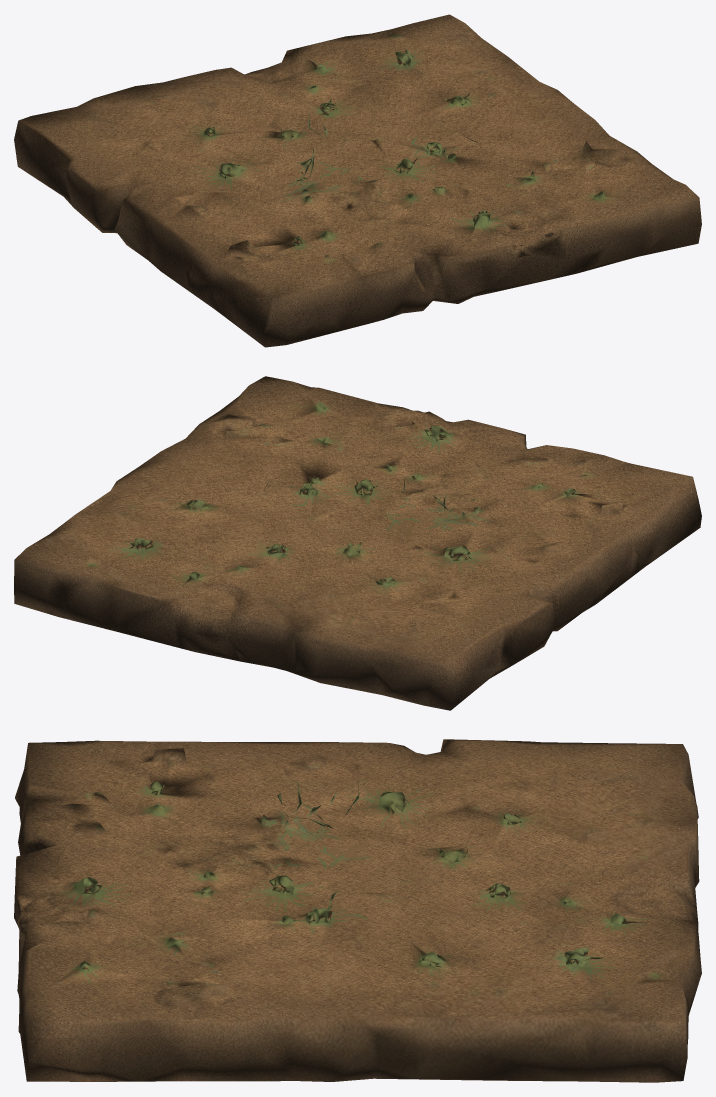
Rendered from terrain_village.glb.
3 renders of one model, top to bottom at view 1: azimuth 30°, elevation 25°; view 2: azimuth 150°, elevation 25°; view 3: azimuth 270°, elevation 25°, orthographic. The views are drawn at different scales.
Visible parts, largest first — view 1: Mesh_0.001; view 2: Mesh_0.001; view 3: Mesh_0.001.
Part boxes in pixels (<box>): Mesh_0.001: <box>14,14,701,347</box>; Mesh_0.001: <box>14,376,701,710</box>; Mesh_0.001: <box>14,739,701,1082</box>.
Size of the model in its own units: 1.9 by 0.414 by 1.9.
Materials: 1 (1 with a texture image).
